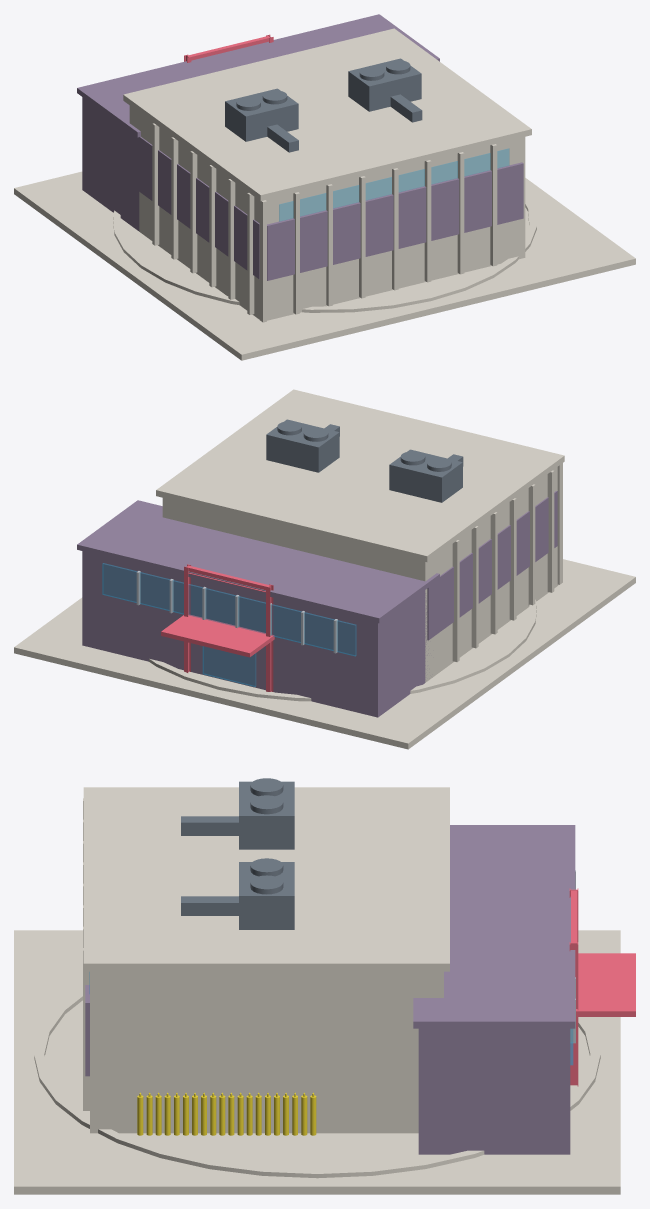
The model's file is hq_12_quality_l1.glb.
The picture shows the model from 3 angles, top to bottom: view 1: azimuth 30°, elevation 25°; view 2: azimuth 150°, elevation 25°; view 3: azimuth 270°, elevation 25°; orthographic projection. The views are drawn at different scales.
Parts seen in each view (by area): view 1: GEO_Quality_Metrology_Lab_Shell, GEO_Quality_Lavender_Brick_Panels, GEO_Quality_Foundation_Plinth, GEO_Quality_HVAC_Climate_Units, GEO_Quality_Office_Glazing, GEO_Quality_Coral_Structural_Beams; view 2: GEO_Quality_Lavender_Brick_Panels, GEO_Quality_Metrology_Lab_Shell, GEO_Quality_Foundation_Plinth, GEO_Quality_Office_Glazing, GEO_Quality_HVAC_Climate_Units, GEO_Quality_Coral_Structural_Beams, GEO_Quality_Aluminum_Mullions; view 3: GEO_Quality_Metrology_Lab_Shell, GEO_Quality_Foundation_Plinth, GEO_Quality_Lavender_Brick_Panels, GEO_Quality_HVAC_Climate_Units, GEO_Quality_Calibration_Tooling, GEO_Quality_Coral_Structural_Beams.
Part boxes in pixels (x1,y1,x2,y2): GEO_Quality_Metrology_Lab_Shell: (123, 28, 531, 322); GEO_Quality_Lavender_Brick_Panels: (77, 14, 523, 280); GEO_Quality_Foundation_Plinth: (14, 171, 635, 360); GEO_Quality_HVAC_Climate_Units: (225, 58, 422, 152); GEO_Quality_Office_Glazing: (279, 148, 509, 221); GEO_Quality_Coral_Structural_Beams: (184, 34, 273, 62); GEO_Quality_Lavender_Brick_Panels: (77, 491, 557, 717); GEO_Quality_Metrology_Lab_Shell: (156, 389, 564, 682); GEO_Quality_Foundation_Plinth: (14, 559, 635, 749); GEO_Quality_Office_Glazing: (102, 563, 356, 686); GEO_Quality_HVAC_Climate_Units: (266, 419, 463, 502); GEO_Quality_Coral_Structural_Beams: (161, 564, 274, 691); GEO_Quality_Aluminum_Mullions: (136, 571, 337, 653); GEO_Quality_Metrology_Lab_Shell: (83, 787, 449, 1133); GEO_Quality_Foundation_Plinth: (14, 930, 620, 1194); GEO_Quality_Lavender_Brick_Panels: (85, 825, 575, 1154); GEO_Quality_HVAC_Climate_Units: (181, 778, 294, 929); GEO_Quality_Calibration_Tooling: (137, 1092, 316, 1135); GEO_Quality_Coral_Structural_Beams: (569, 888, 635, 1086).
Size of what is drawn, in the model's own units: 24 by 9.58 by 24.6.
